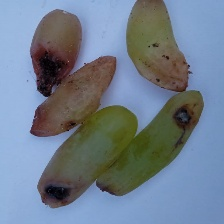grapes: (23, 14, 171, 188)
